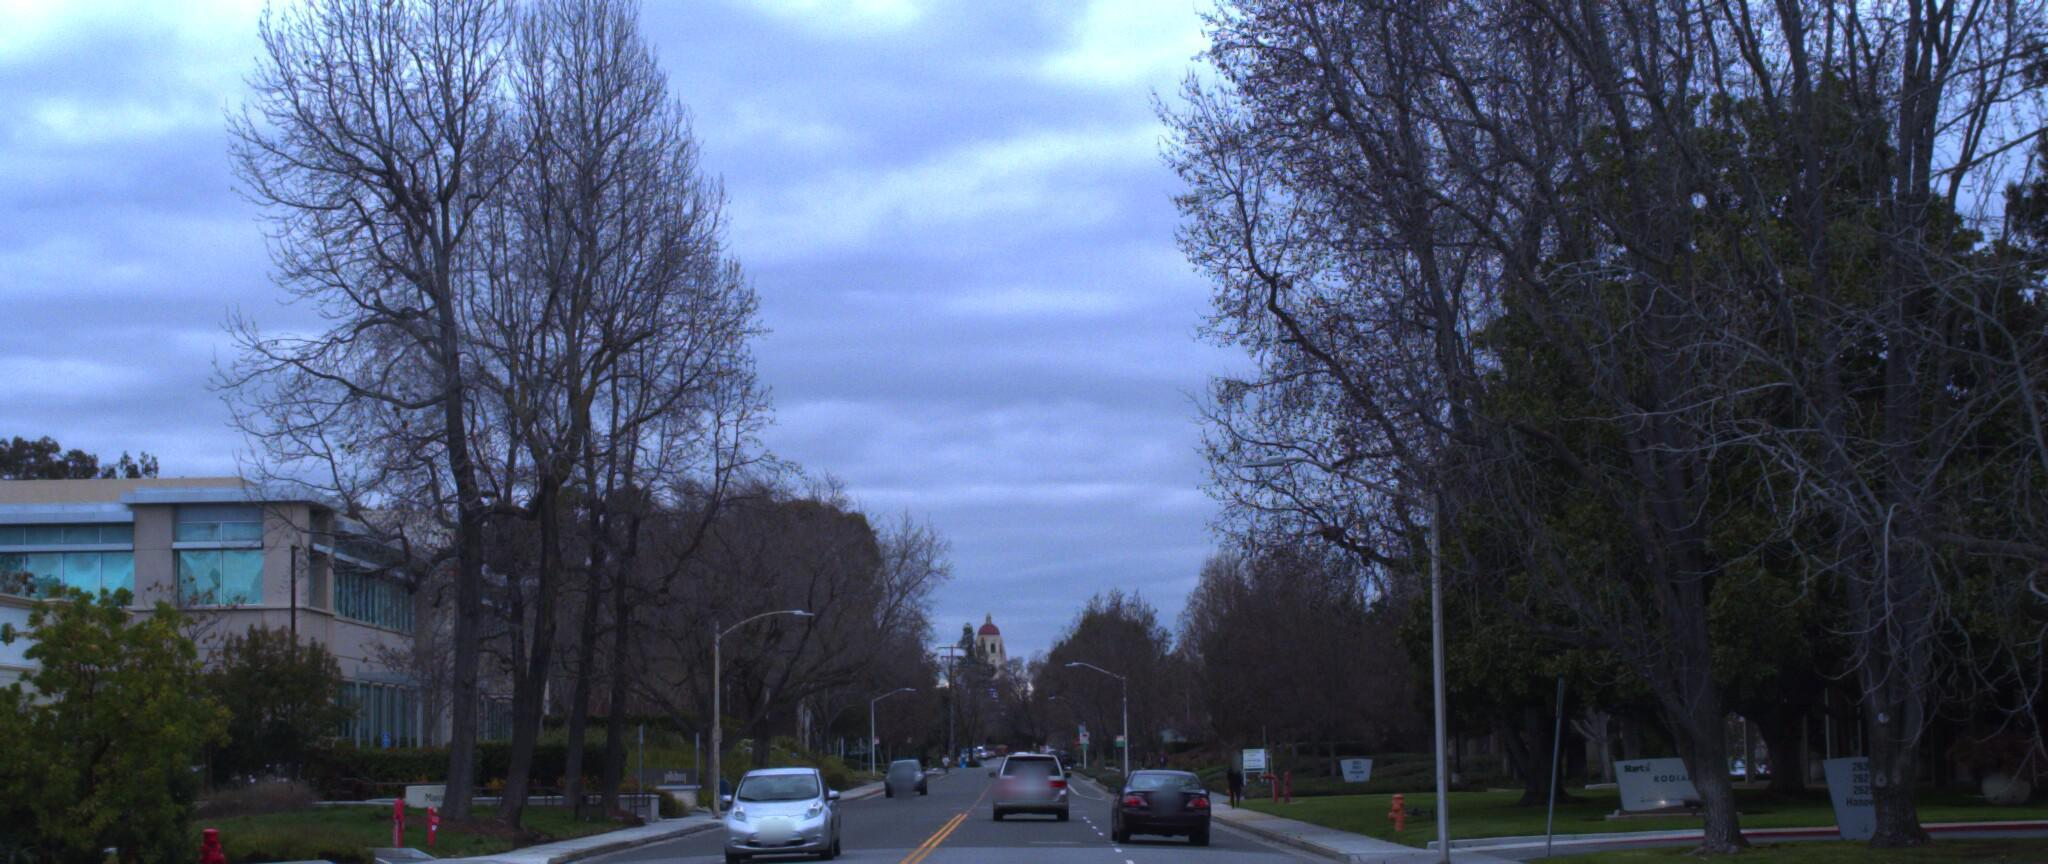car: (705, 749, 835, 846), (1106, 760, 1216, 842), (993, 737, 1075, 807)
